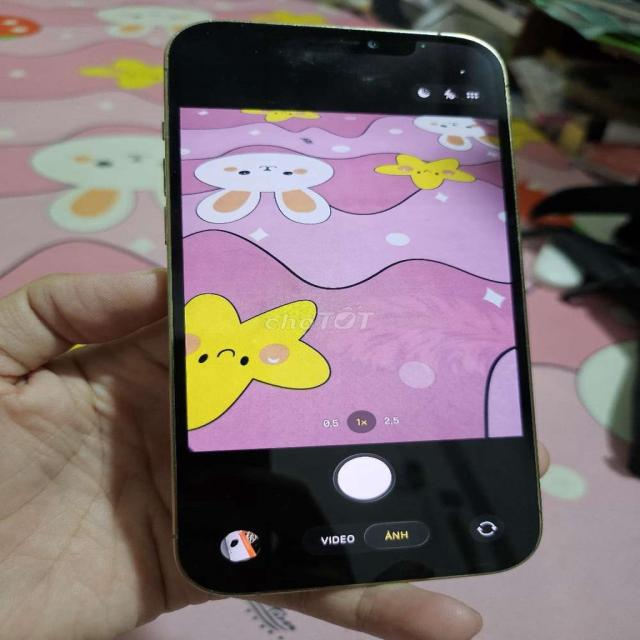gen_12_13: (153, 18, 548, 605)
scratch: (259, 27, 402, 99), (166, 18, 258, 57)
